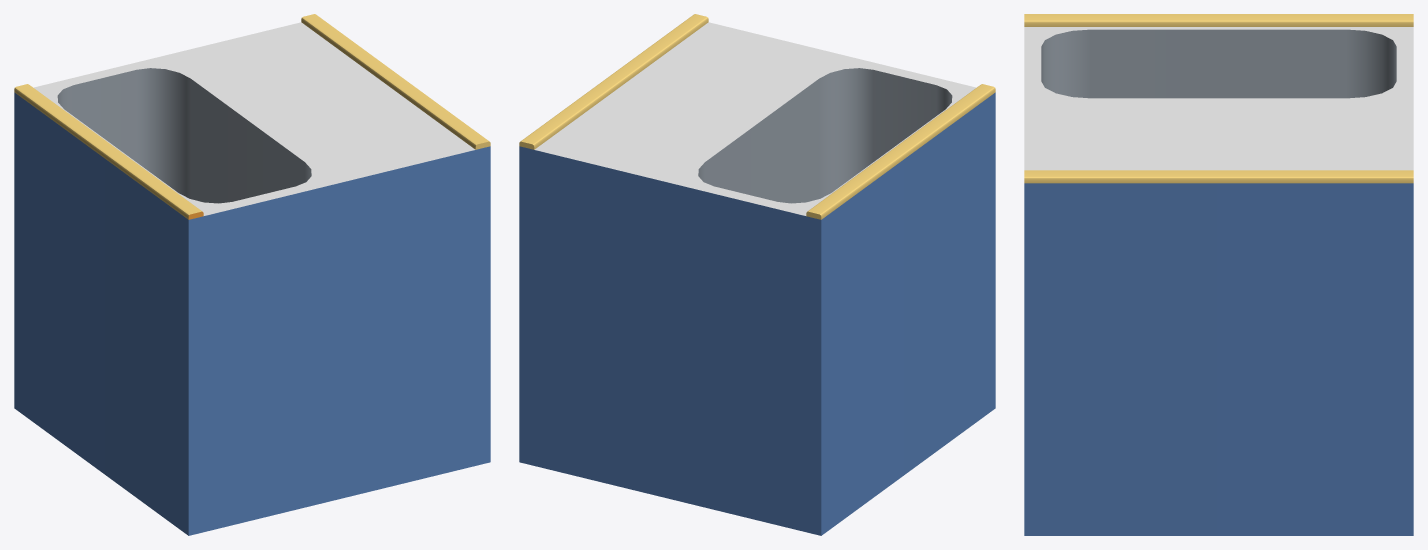
The picture shows the model from 3 angles, left to right: view 1: azimuth 30°, elevation 25°; view 2: azimuth 150°, elevation 25°; view 3: azimuth 270°, elevation 25°; orthographic projection. The views are drawn at different scales.
Parts seen in each view (by area): view 1: e1; view 2: e1; view 3: e1.
Boxes of the visible parts, bbox=[...] form: e1: bbox=[14, 14, 490, 535]; e1: bbox=[519, 14, 995, 535]; e1: bbox=[1024, 14, 1413, 535].
Bounding box in the file's own units: 700 × 711 × 700.
1 material, 1 textured.
